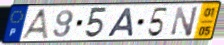5: (83, 6, 110, 40), (147, 6, 170, 38)
9: (51, 9, 75, 38)
A: (19, 8, 50, 40), (104, 7, 135, 38)
N: (170, 5, 200, 38)
